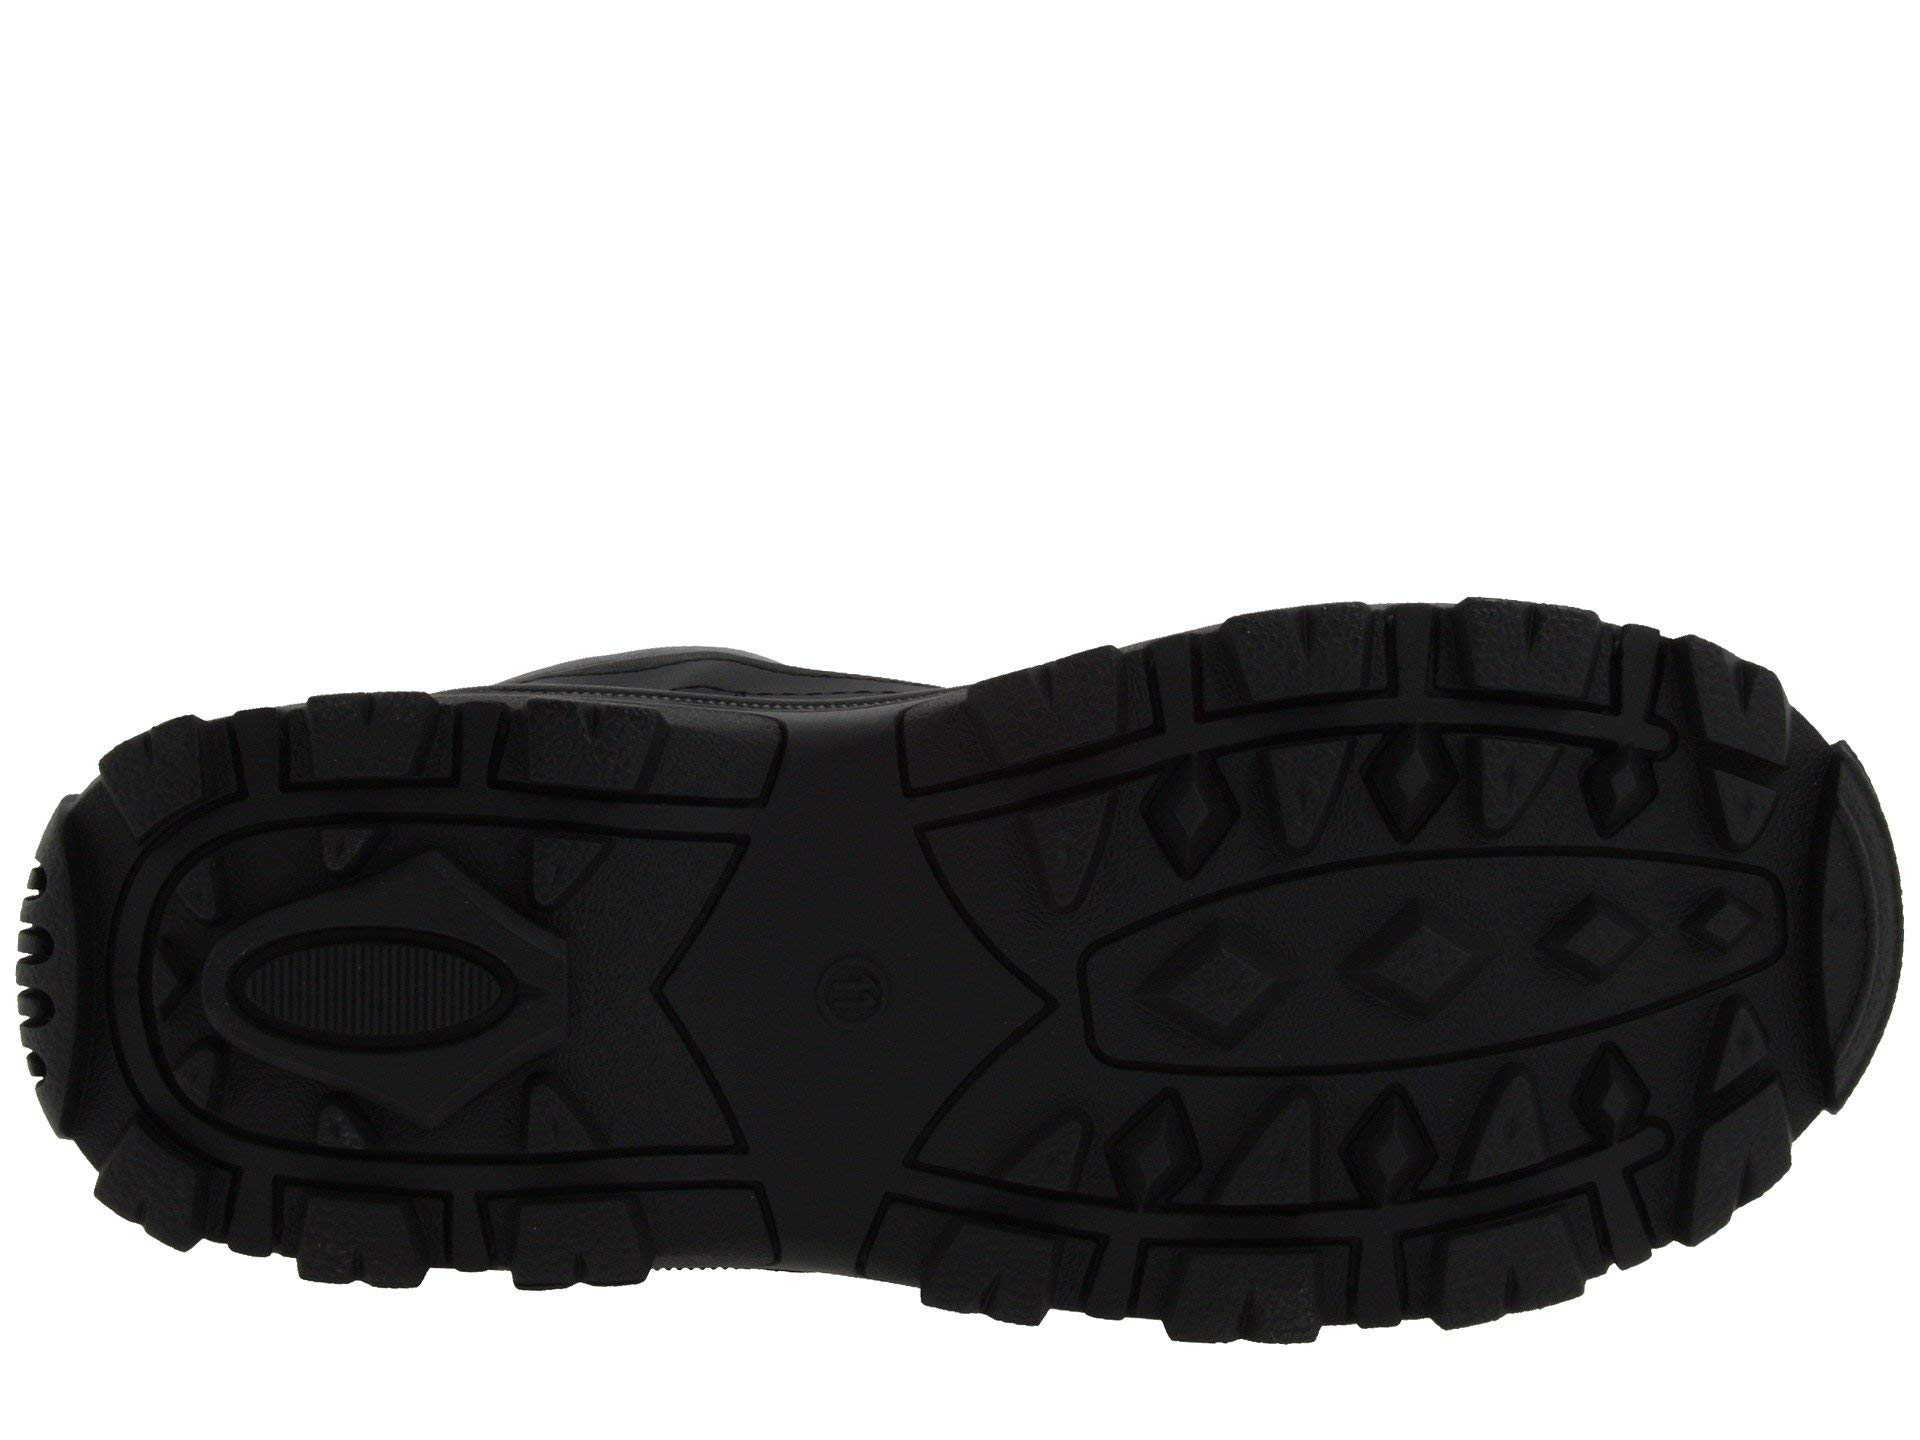line: (278, 959, 472, 1006)
quad: (1002, 791, 1120, 926)
